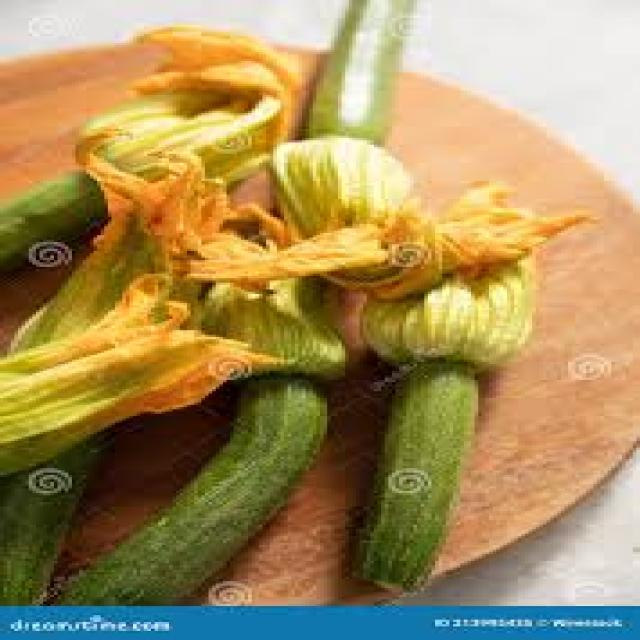Zucchini: (318, 0, 410, 145)
